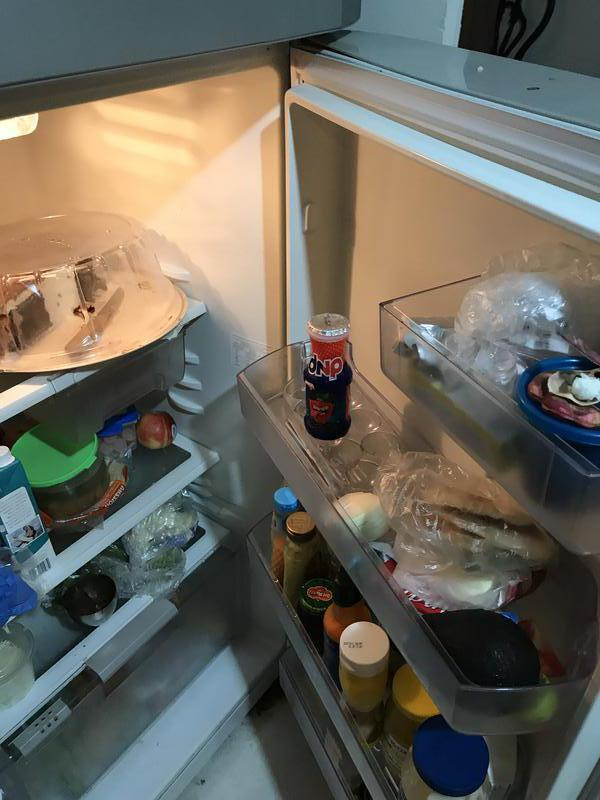danup: (304, 313, 352, 442)
